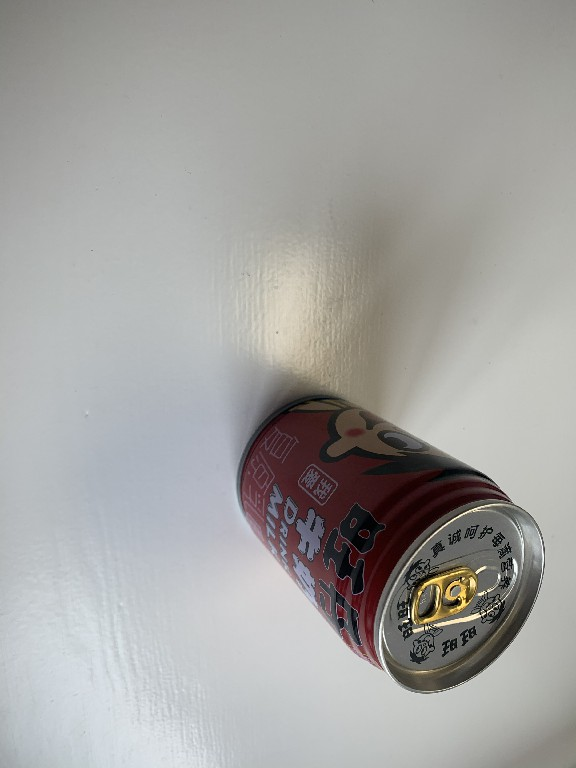can: (232, 391, 550, 699)
